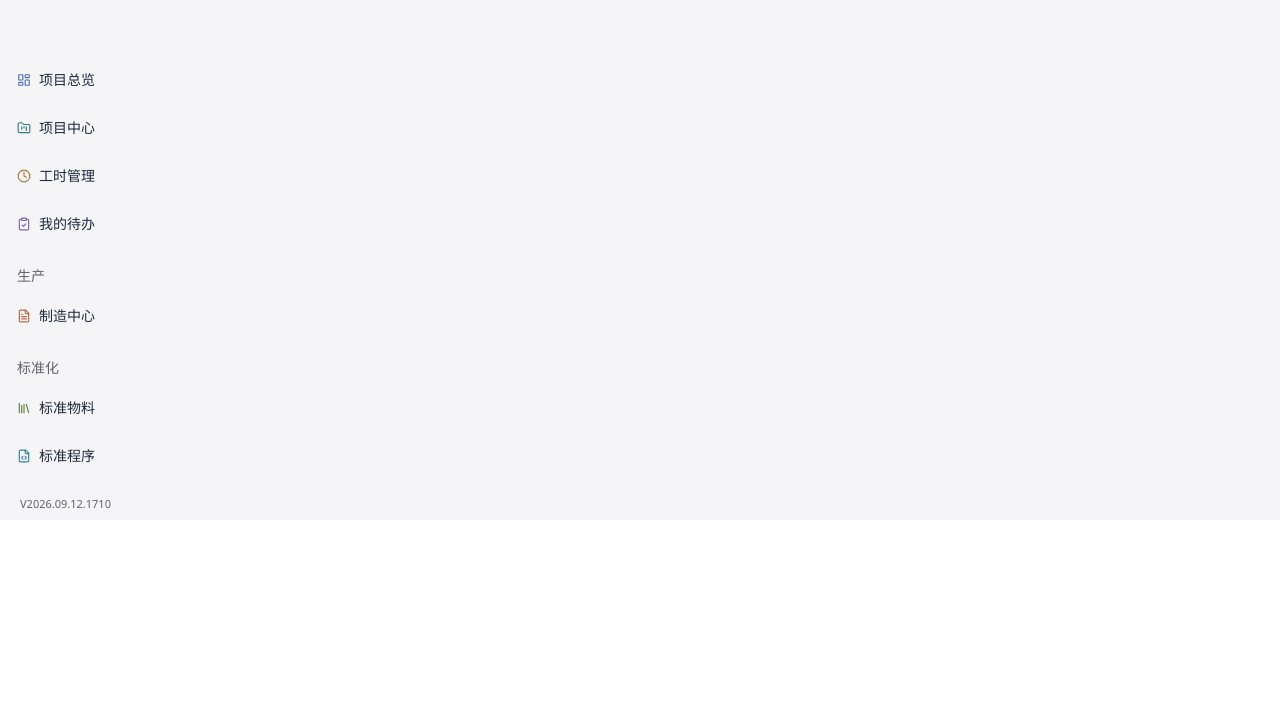
Test: SideNav › opens detailed runtime information when the version is clicked
This screenshot has width=1280, height=720.
Click the button "V2026.09.12.1710" at {"x": 65, "y": 504}, box [0,490,1279,520]
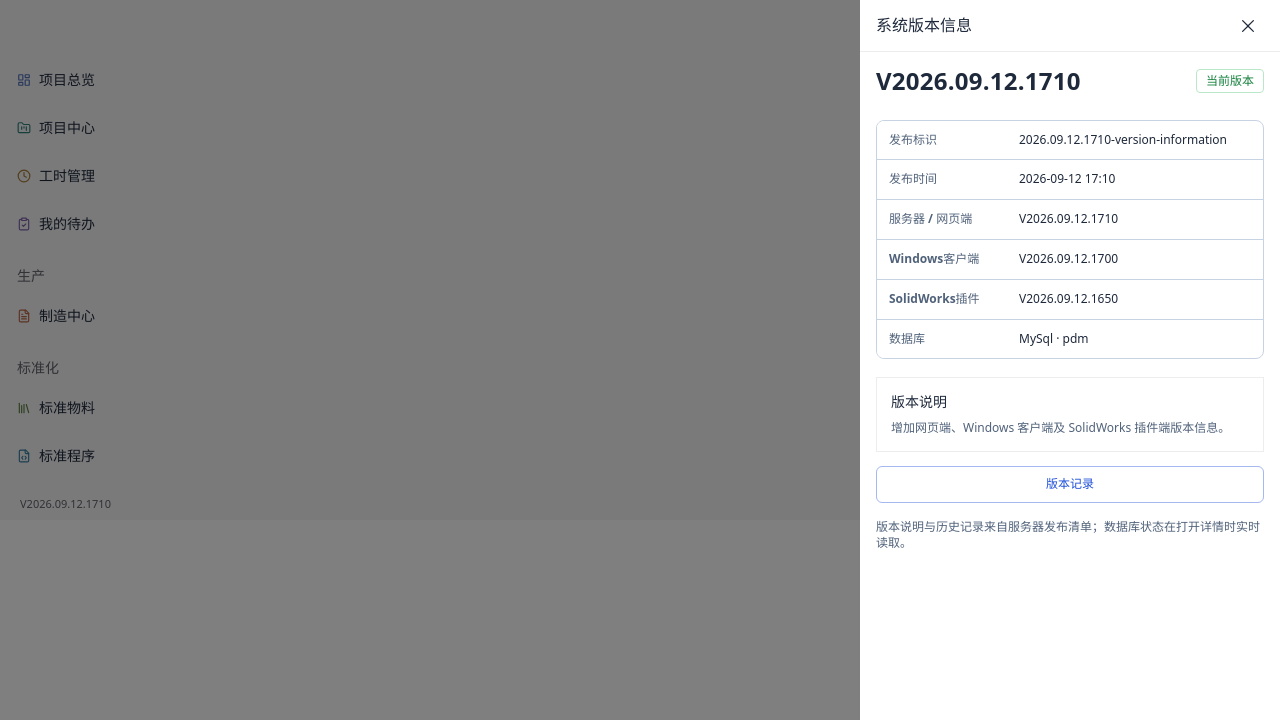
Result: the text "系统版本信息" is shown at [876,14,972,36]
Result: the text "2026-09-12 17:10" is shown at [1019,170,1115,187]
Result: the text "MySql · pdm" is shown at [1019,330,1088,347]
Click the button "版本记录" at {"x": 1070, "y": 484}, box [876,466,1264,503]
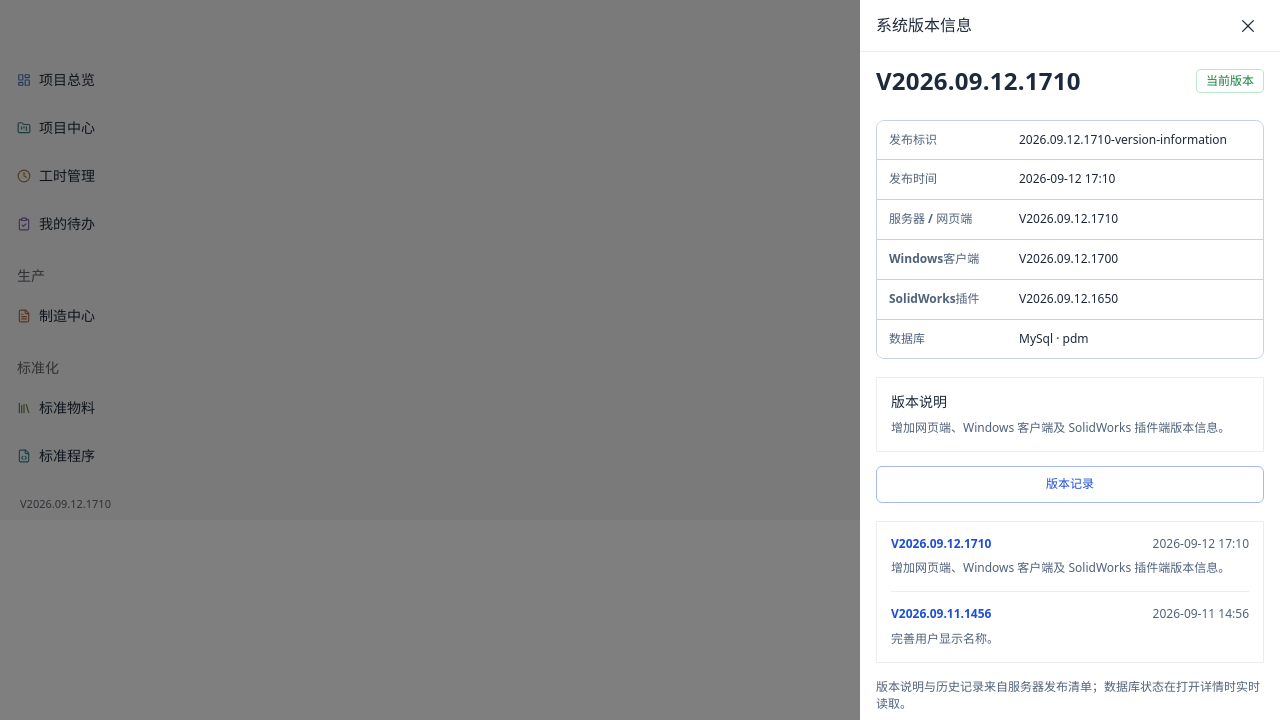
Result: the element named "版本记录" shows "V2026.09.12.1710" at [891,535,991,552]
Result: the element named "版本记录" shows "2026-09-12 17:10" at [1153,535,1249,552]
Result: the element named "版本记录" shows "增加网页端、Windows 客户端及 SolidWorks 插件端版本信息。" at [891,559,1230,576]
